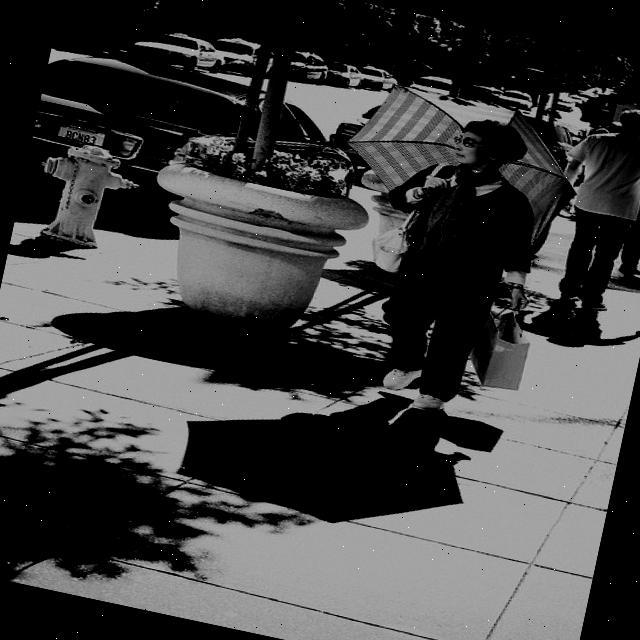fire_hydrant: (23, 132, 142, 258)
